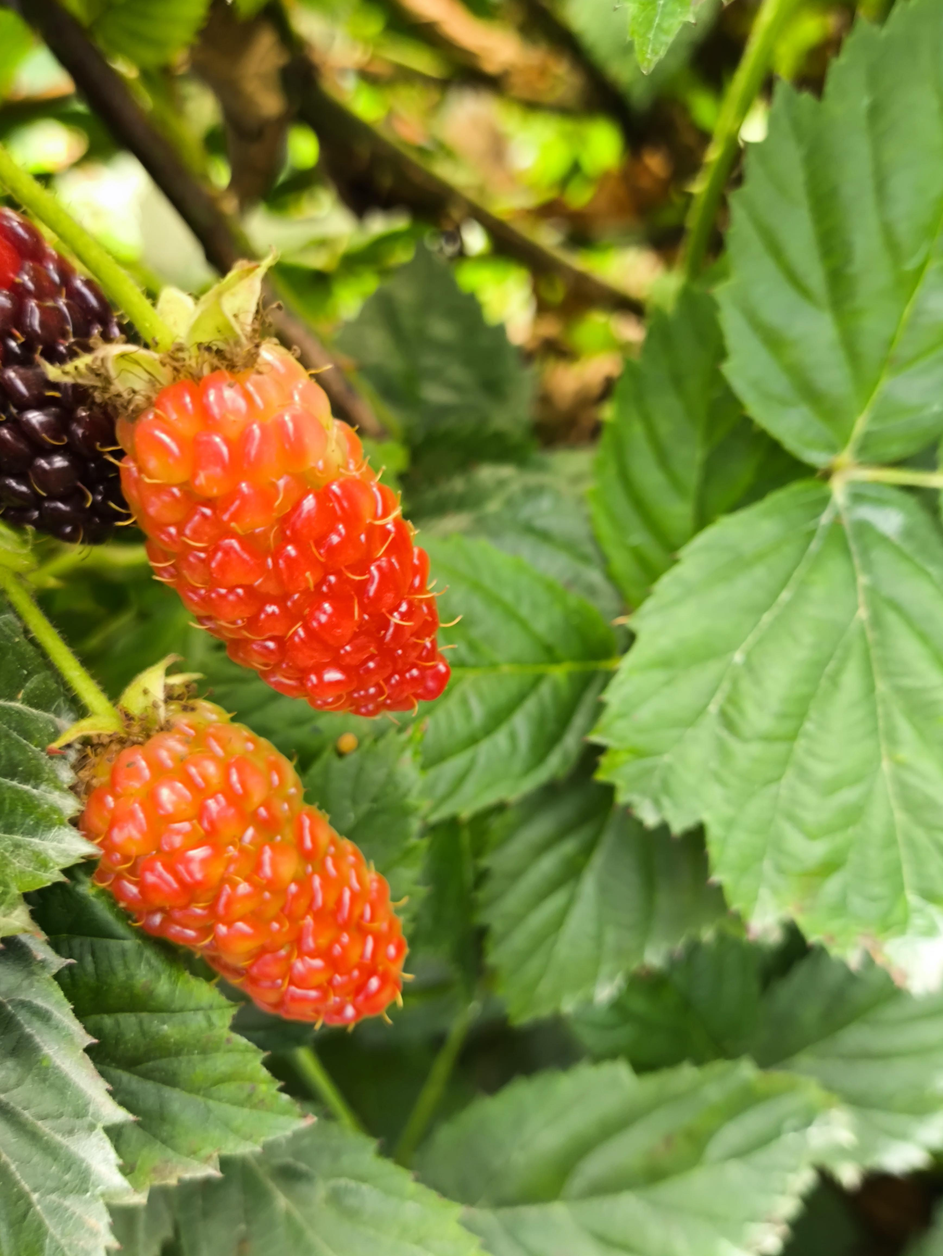marron: (0, 208, 124, 543)
naranja: (119, 344, 450, 717), (81, 701, 408, 1024)
